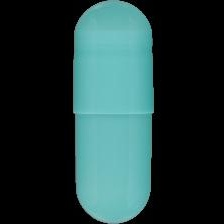0093-5552: (0, 0, 224, 224)
